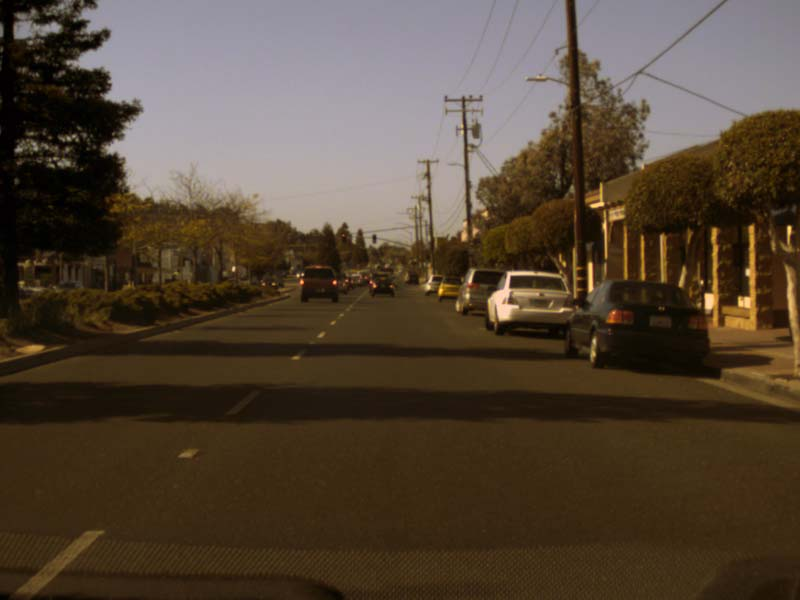Green: (372, 235, 376, 243)
Red: (341, 233, 346, 241)
